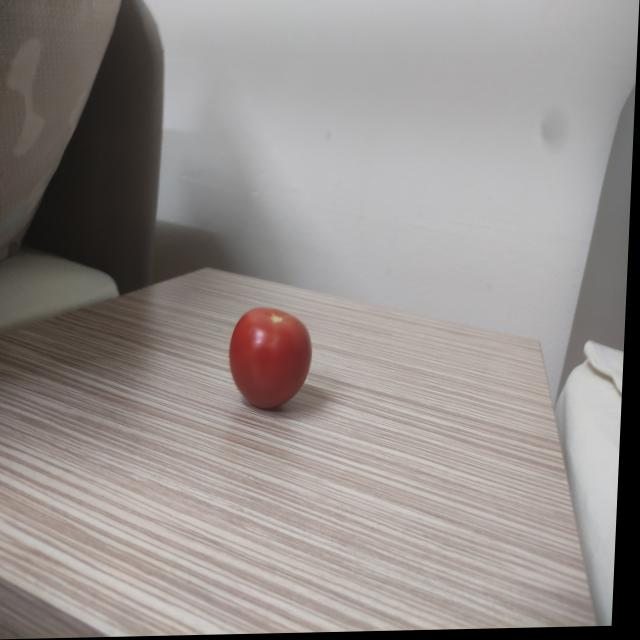kirmizi: (220, 291, 327, 420)
